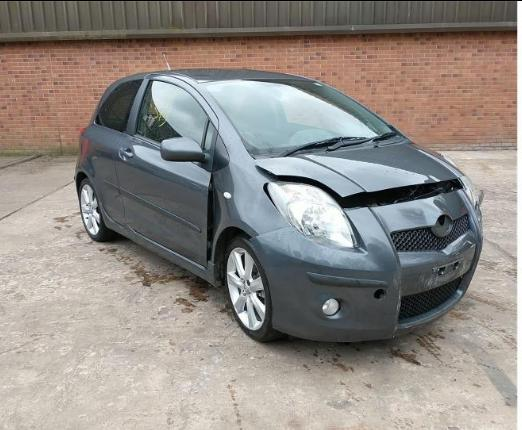Broken part: (237, 189, 484, 342), (254, 138, 467, 213), (467, 176, 482, 213)
Dent: (229, 162, 261, 226), (209, 175, 222, 261), (433, 194, 454, 220), (453, 239, 476, 255), (418, 201, 440, 214)
Flaking: (257, 225, 303, 242), (320, 245, 340, 259), (459, 203, 468, 216)
Missing part: (432, 215, 454, 237), (436, 261, 462, 277), (373, 290, 386, 300)
Scratch: (393, 264, 404, 322), (418, 270, 440, 293)
